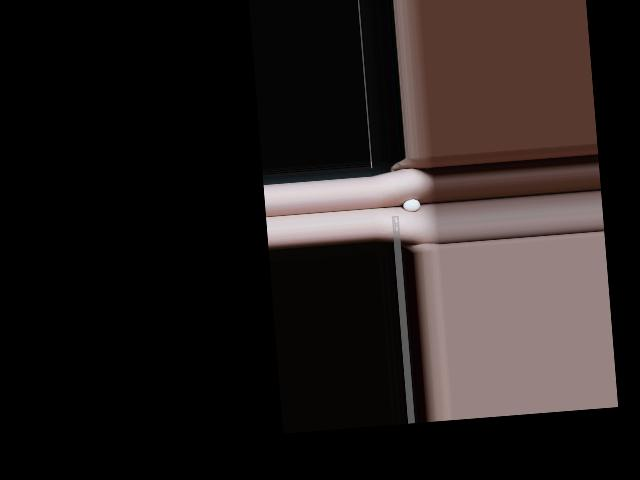egg: (402, 198, 420, 212)
